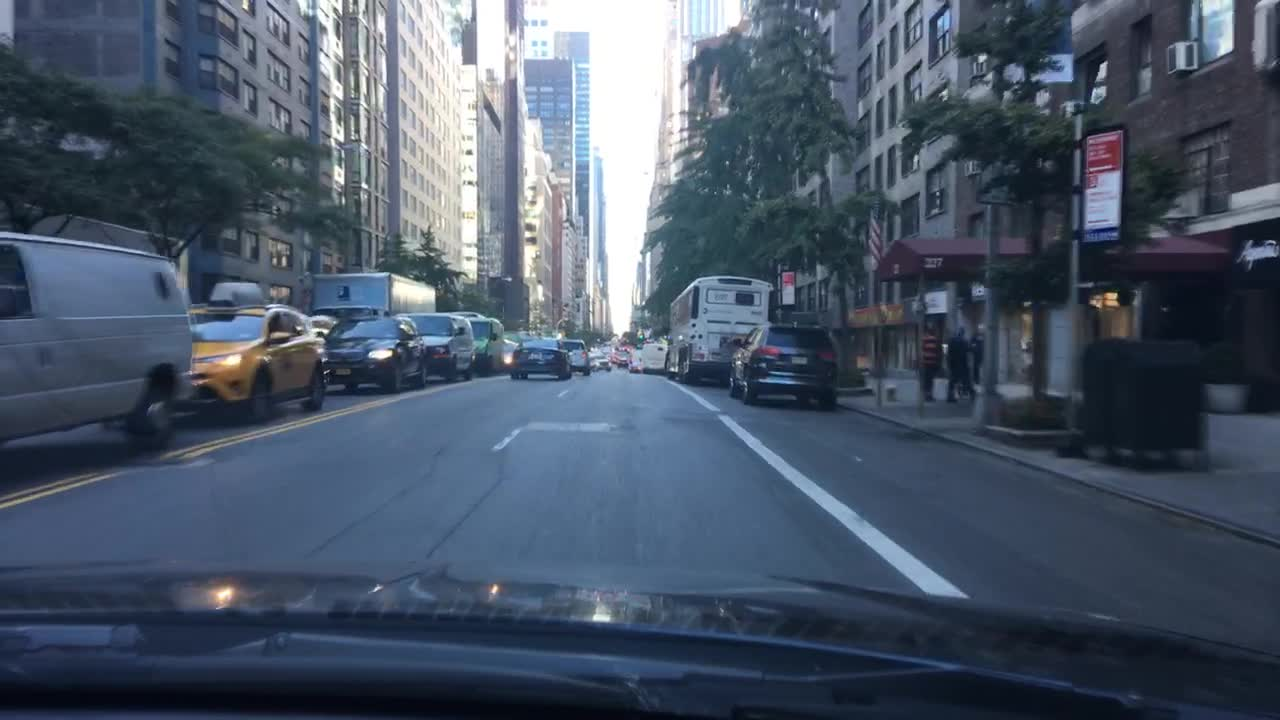bus: (664, 273, 779, 381), (305, 273, 433, 318)
car: (0, 212, 192, 464), (185, 280, 327, 418), (723, 317, 842, 411), (325, 310, 427, 396), (391, 307, 475, 381), (511, 337, 572, 386), (467, 313, 502, 377), (565, 337, 592, 379), (310, 310, 339, 347), (641, 337, 668, 372), (445, 305, 484, 325), (585, 347, 609, 377), (502, 337, 516, 379), (614, 345, 631, 371), (629, 347, 642, 374), (599, 340, 615, 359)
person: (912, 318, 939, 401), (939, 327, 963, 408), (960, 320, 982, 398)
traffic sign: (1083, 129, 1127, 239), (777, 270, 793, 302)
